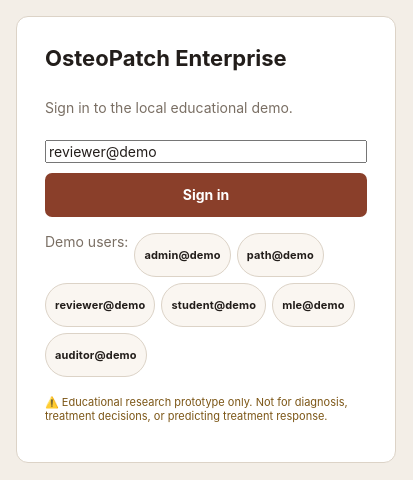
Test: Login › prefills a demo email into the field when a chip is clicked
Expected: the field named "email" holds "reviewer@demo", 45,140 -> 367,162
Click the button "auditor@demo": (96, 354) 45,332 -> 147,376
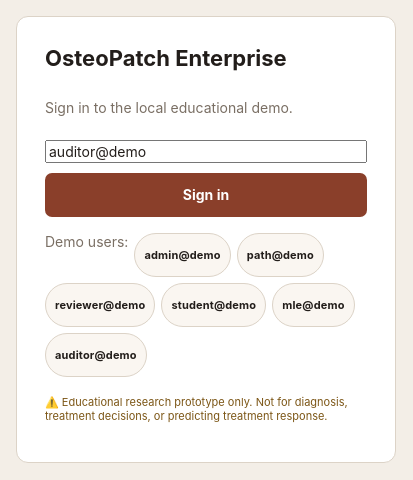
Expected: the field named "email" holds "auditor@demo", 45,140 -> 367,162
